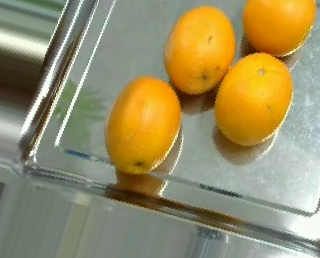Orange: (104, 75, 181, 174), (214, 51, 294, 146), (162, 4, 235, 94)
